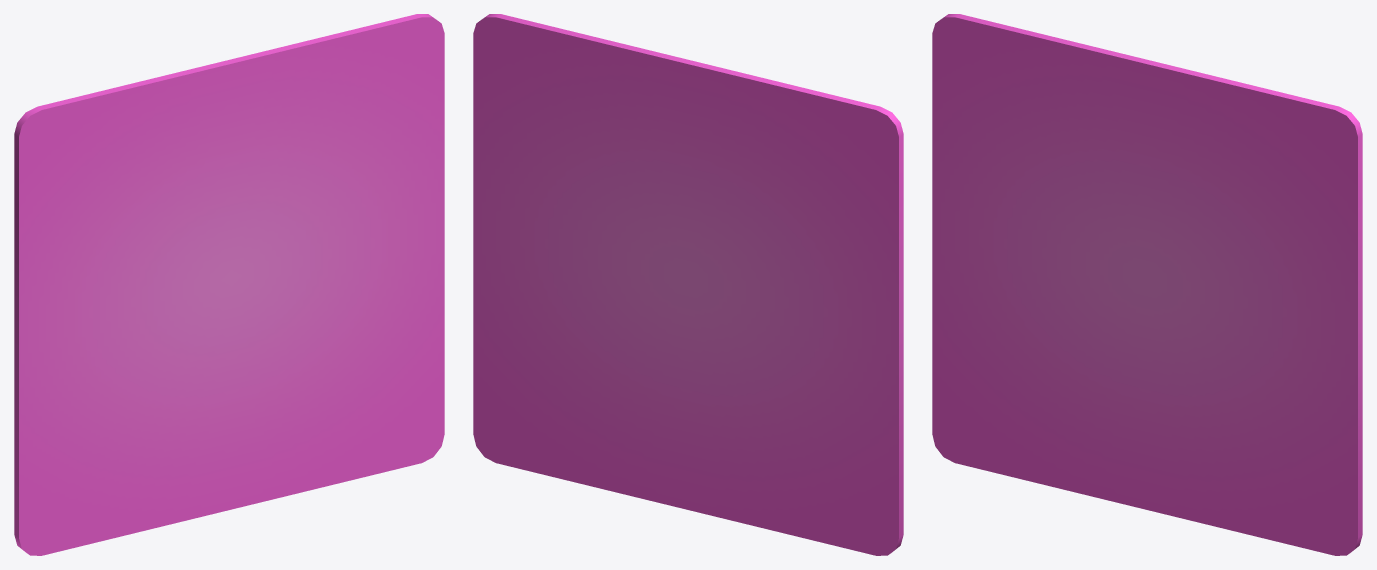
Rendered from rarity_bg_mythic.glb.
3 renders of one model, left to right at view 1: azimuth 30°, elevation 25°; view 2: azimuth 150°, elevation 25°; view 3: azimuth 330°, elevation 25°, orthographic.
Parts seen in each view (by area): view 1: rarity_bg_mythic; view 2: rarity_bg_mythic; view 3: rarity_bg_mythic.
Part boxes in pixels (x1,y1,x2,y2): rarity_bg_mythic: [14, 14, 444, 555]; rarity_bg_mythic: [473, 14, 903, 555]; rarity_bg_mythic: [932, 14, 1362, 555].
Size of the model in its own units: 1 by 1 by 0.0187.
Materials: 1 (1 with a texture image).
